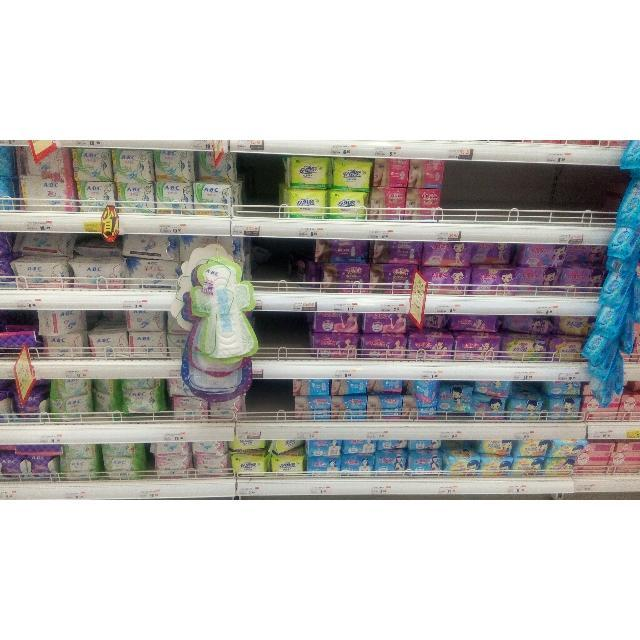empty: (445, 164, 617, 212), (252, 236, 296, 282), (243, 154, 279, 206), (256, 312, 308, 348), (251, 381, 293, 412)
